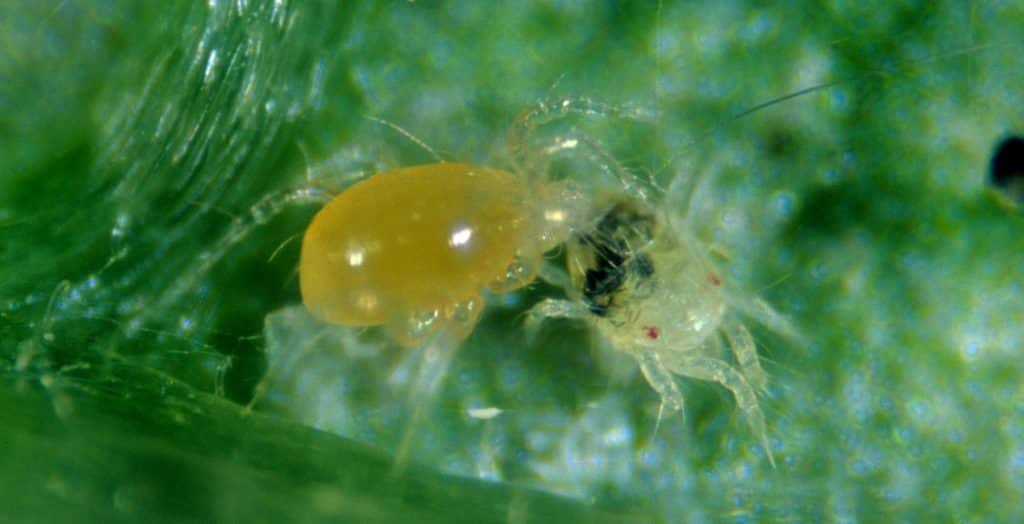Mites: (264, 103, 584, 472), (543, 55, 783, 514)
